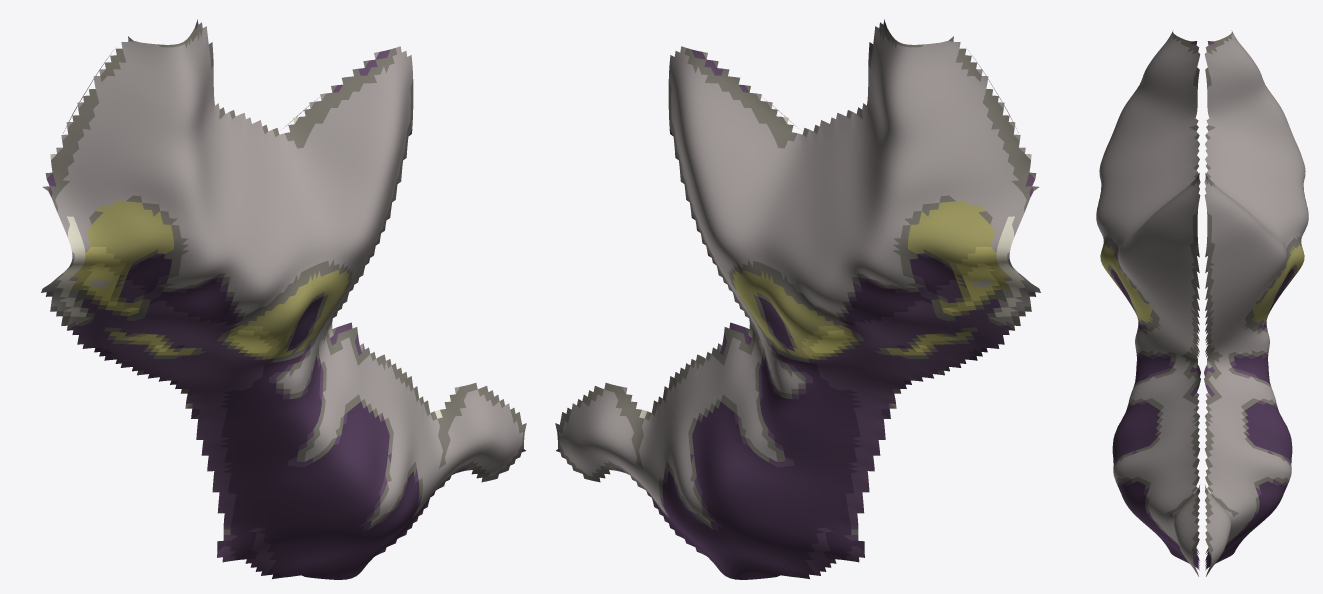
File: burinao.glb
3 renders of one model, left to right at view 1: azimuth 30°, elevation 25°; view 2: azimuth 150°, elevation 25°; view 3: azimuth 270°, elevation 25°, orthographic. The views are drawn at different scales.
Visible parts, largest first — view 1: burinao; view 2: burinao; view 3: burinao.
Boxes of the visible parts, x1,y1,x2,y2 form: burinao: (41,19,526,579); burinao: (555,19,1040,579); burinao: (1096,30,1308,576).
Size of the model in its own units: 750 by 857 by 360.
